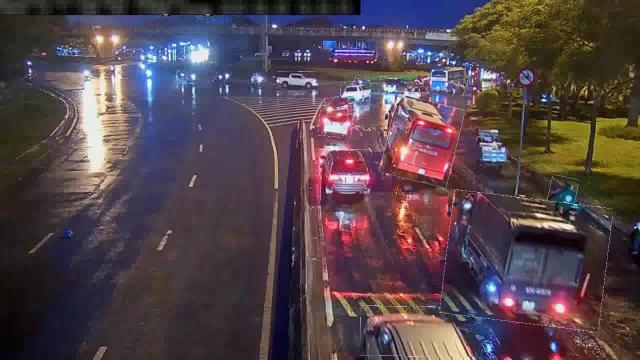Bike: (546, 176, 578, 220)
Bus: (383, 98, 461, 184)
Car: (362, 306, 482, 356), (321, 150, 372, 200), (319, 106, 353, 138), (341, 81, 372, 103), (278, 72, 316, 88), (326, 96, 356, 116), (378, 76, 406, 93)
Truck: (442, 194, 610, 328)
